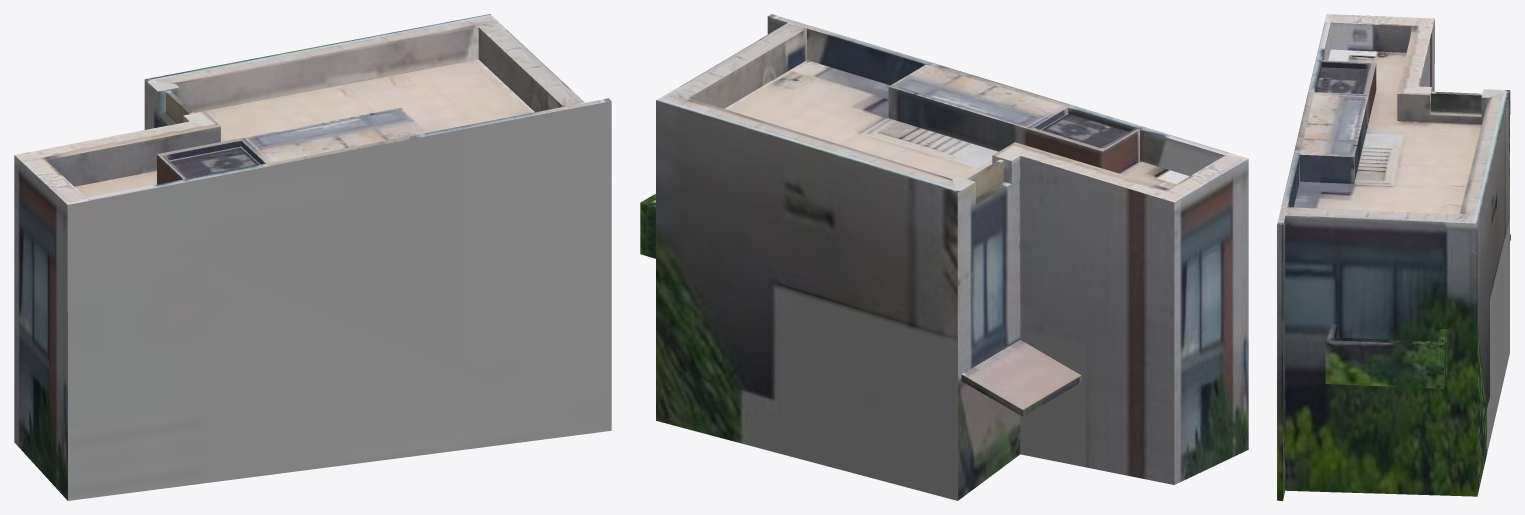
3 views of the same model, side by side, from view 1: azimuth 30°, elevation 25°; view 2: azimuth 150°, elevation 25°; view 3: azimuth 270°, elevation 25° (orthographic). The views are drawn at different scales.
Parts seen in each view (by area): view 1: B286024034301062A0; view 2: B286024034301062A0; view 3: B286024034301062A0.
Boxes of the visible parts, x1,y1,x2,y2 form: B286024034301062A0: (14, 14, 611, 500); B286024034301062A0: (640, 14, 1248, 500); B286024034301062A0: (1277, 14, 1510, 500).
Size of the model in its own units: 16.55 by 9.5 by 7.29.
Materials: 1 (1 with a texture image).
